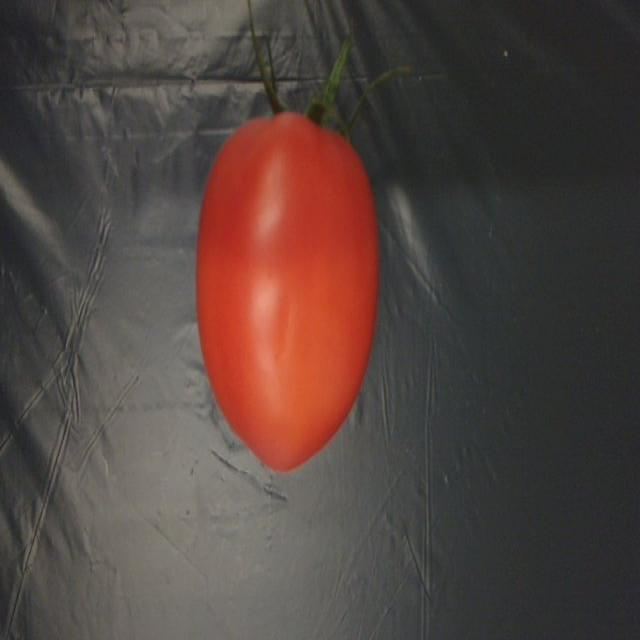kirmizi: (187, 109, 389, 472)
